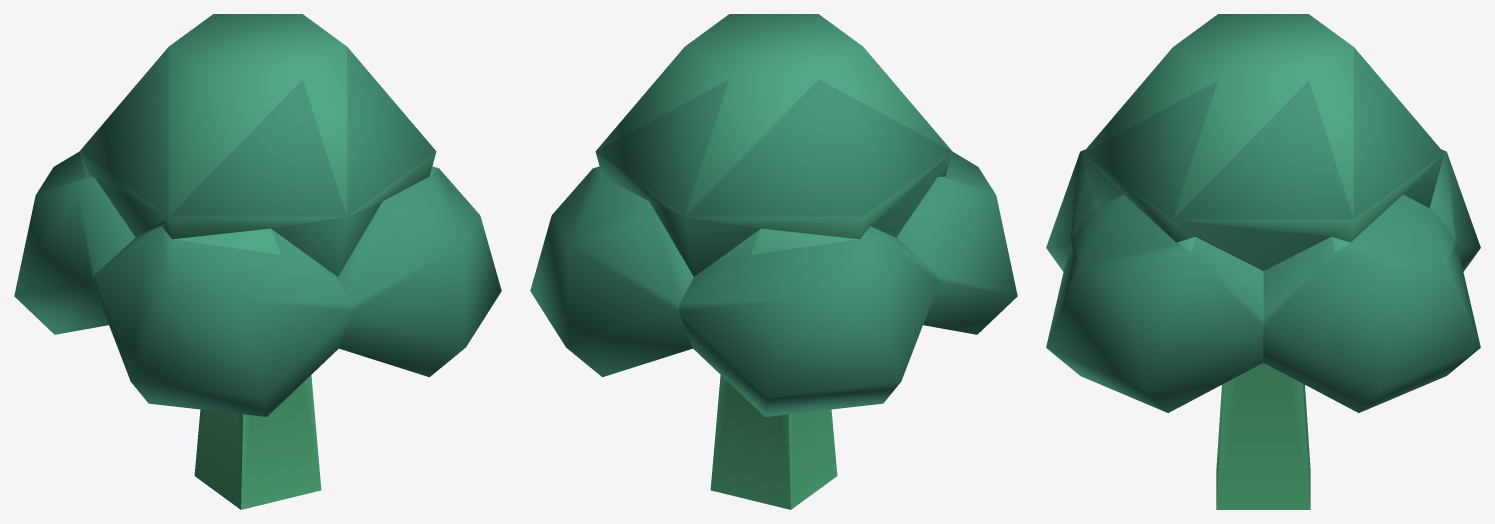
Rendered from brocolis.glb.
3 views of the same model, side by side, from view 1: azimuth 30°, elevation 25°; view 2: azimuth 150°, elevation 25°; view 3: azimuth 270°, elevation 25° (orthographic).
Parts seen in each view (by area): view 1: broccoli; view 2: broccoli; view 3: broccoli.
Boxes of the visible parts, x1=… form: broccoli: x1=14, y1=14, x2=501, y2=509; broccoli: x1=530, y1=14, x2=1017, y2=509; broccoli: x1=1046, y1=14, x2=1480, y2=509.
Bounding box in the file's own units: 0.3752 × 0.4217 × 0.3752.
